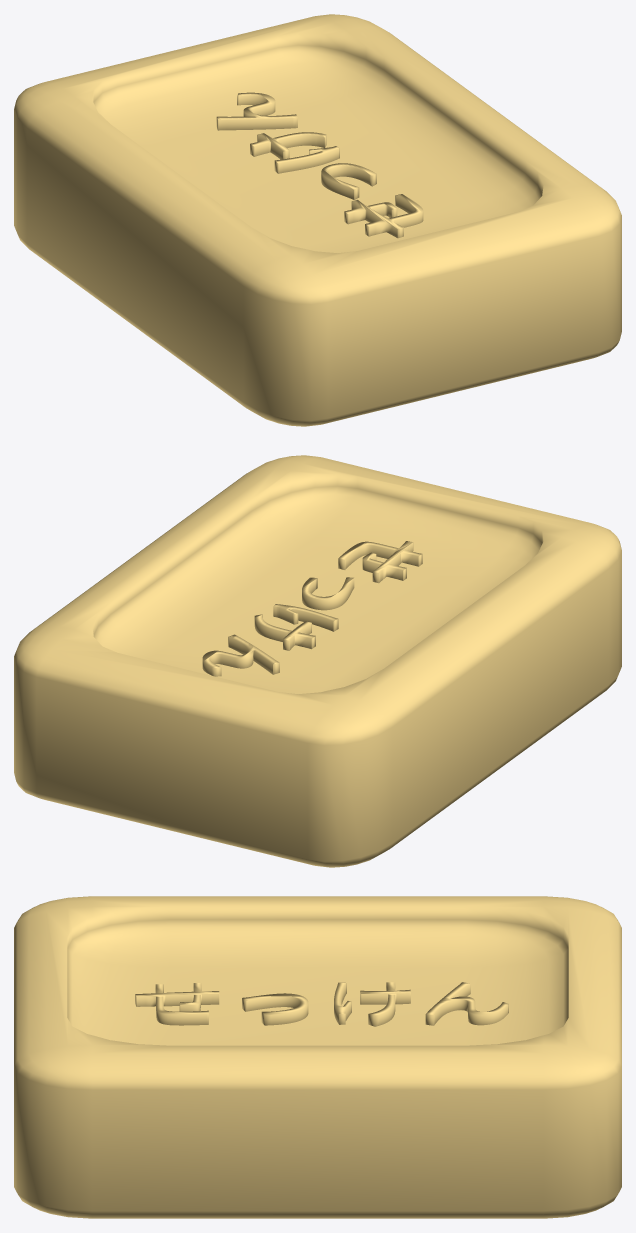
File: sekken.obj
3 renders of one model, top to bottom at view 1: azimuth 30°, elevation 25°; view 2: azimuth 150°, elevation 25°; view 3: azimuth 270°, elevation 25°, orthographic. The views are drawn at different scales.
Parts seen in each view (by area): view 1: 立方体.001, テキスト; view 2: 立方体.001, テキスト; view 3: 立方体.001, テキスト.
Boxes of the visible parts, bbox=[...] form: 立方体.001: bbox=[14, 14, 621, 426]; テキスト: bbox=[216, 92, 423, 238]; 立方体.001: bbox=[14, 455, 621, 867]; テキスト: bbox=[202, 541, 422, 676]; 立方体.001: bbox=[14, 896, 621, 1218]; テキスト: bbox=[135, 982, 508, 1026].
Bounding box in the file's own units: 1.02 × 0.4169 × 1.41.
